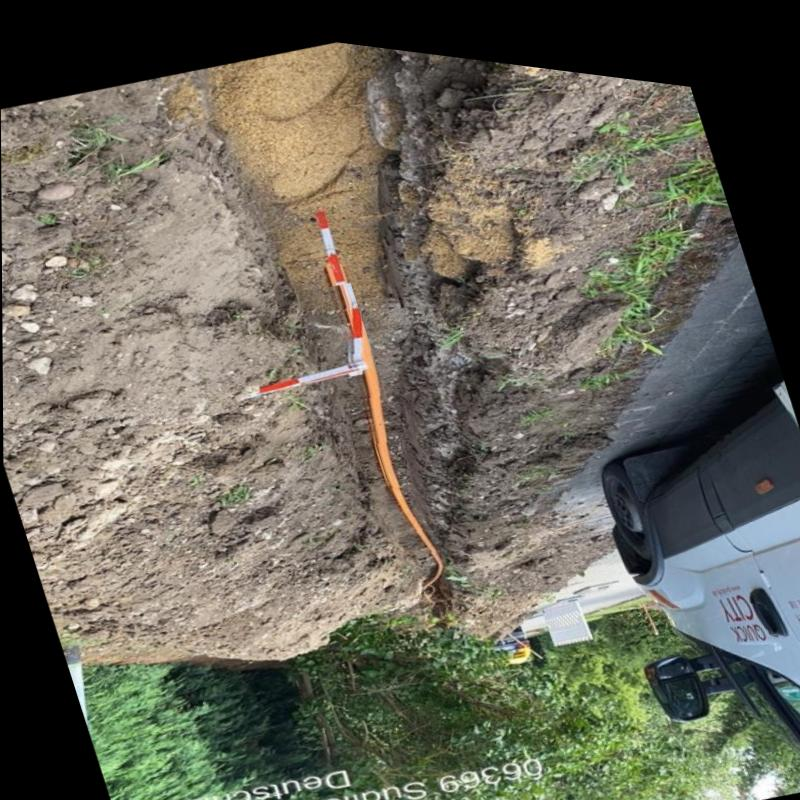Orang-Speednetrohrchen: (337, 274, 435, 540)
